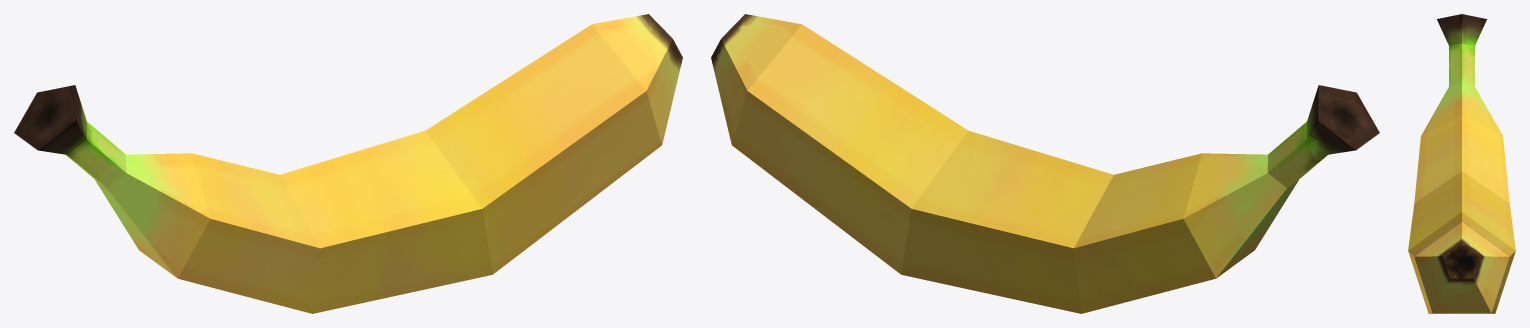
File: banana.gltf
The picture shows the model from 3 angles, left to right: view 1: azimuth 30°, elevation 25°; view 2: azimuth 150°, elevation 25°; view 3: azimuth 270°, elevation 25°; orthographic projection. The views are drawn at different scales.
Visible parts, largest first — view 1: Banana; view 2: Banana; view 3: Banana.
Boxes of the visible parts, x1,y1,x2,y2 form: Banana: (14,14,682,313); Banana: (711,14,1379,313); Banana: (1408,14,1515,313).
Size of the model in its own units: 0.2 by 0.0787 by 0.044.
1 material, 1 textured.
